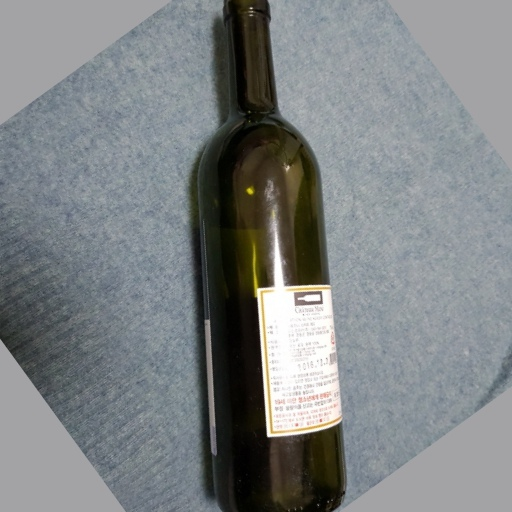Glass_2: (185, 1, 348, 512)
